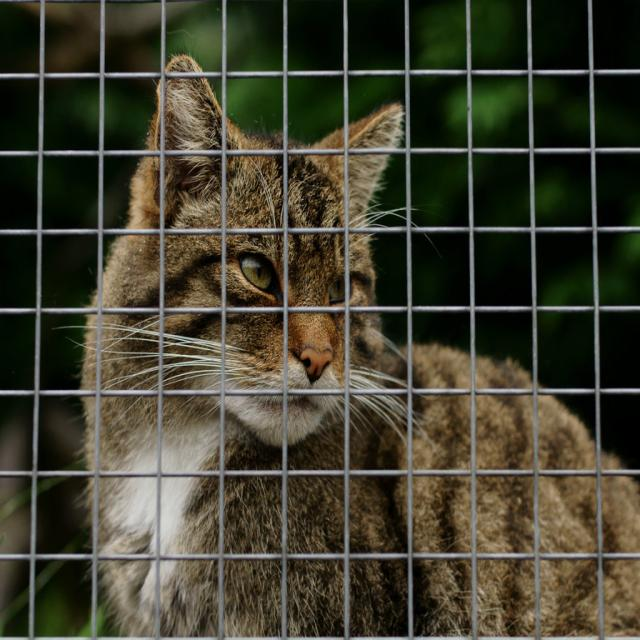Cat: (73, 44, 638, 638)
